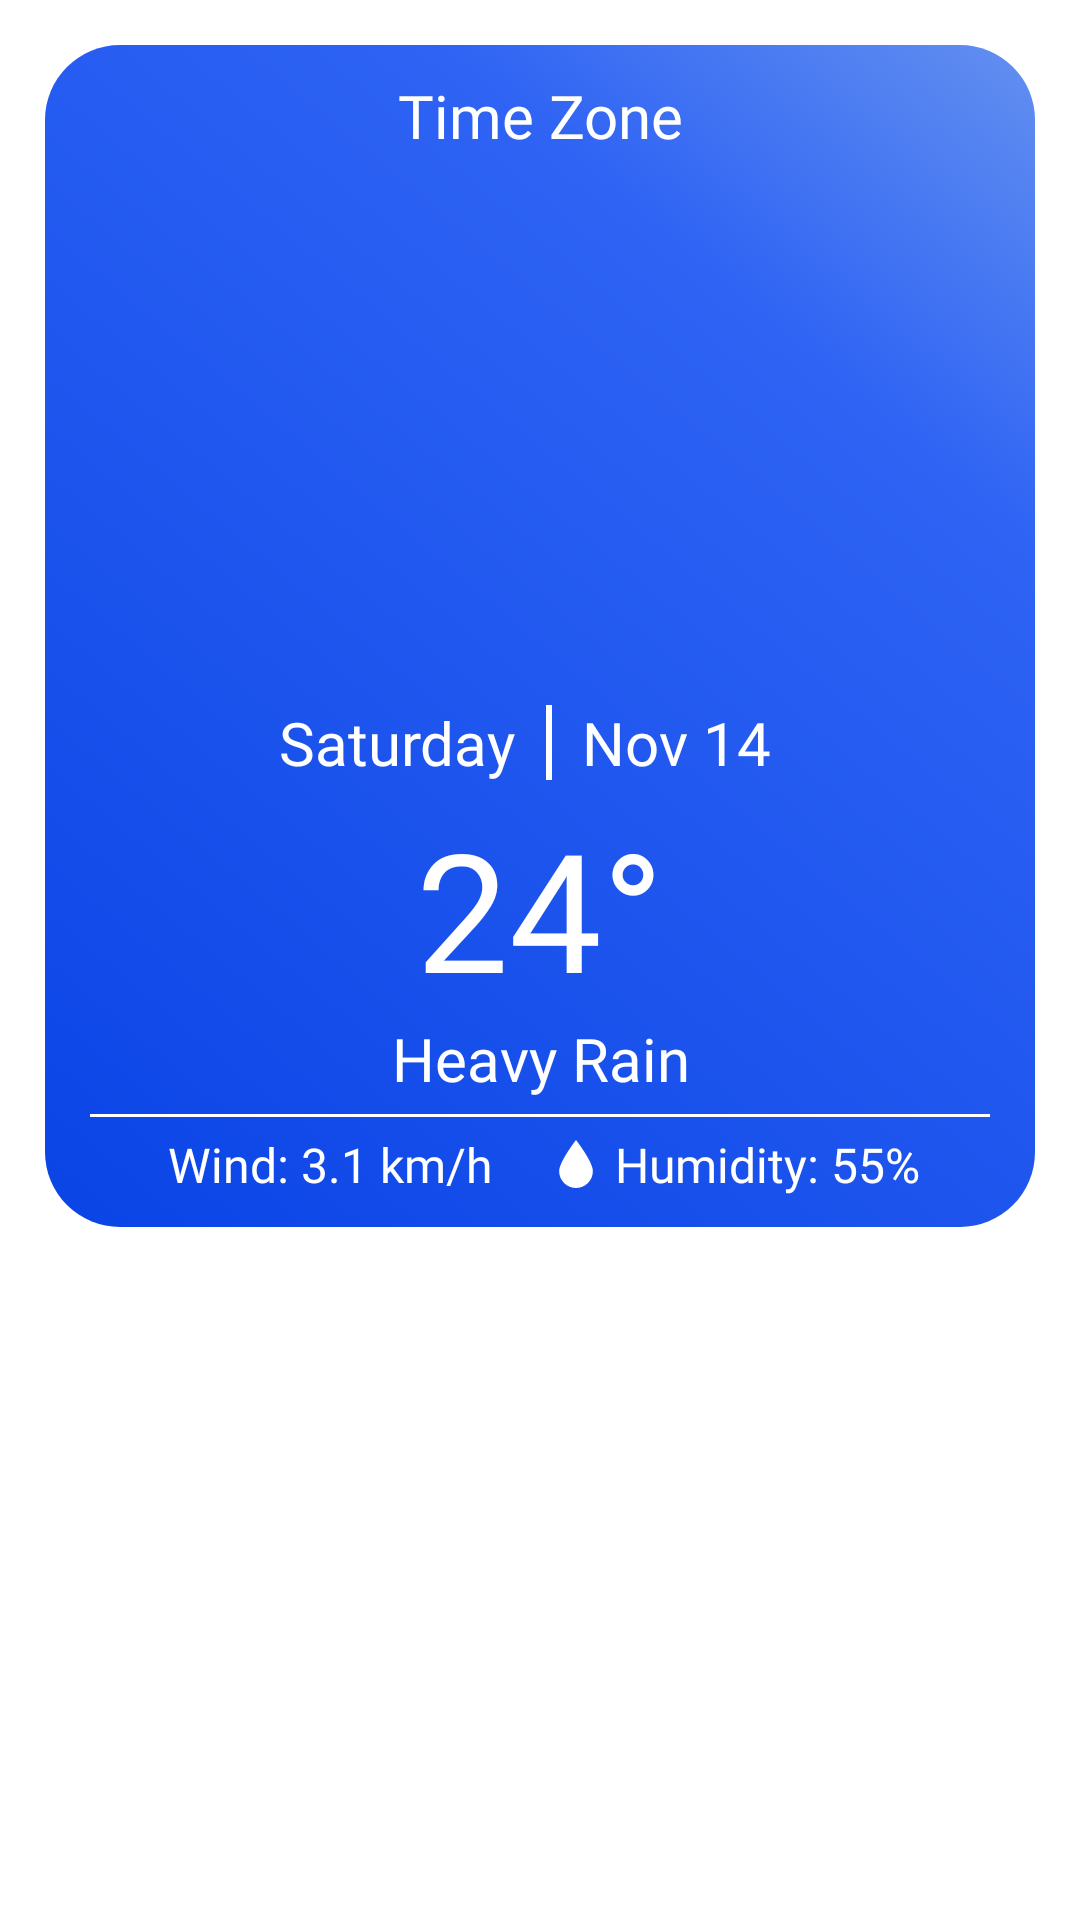

Where to tap for icons on this 1080w x 1920h app screen, as [x,y]:
water drop: [576,1164]
